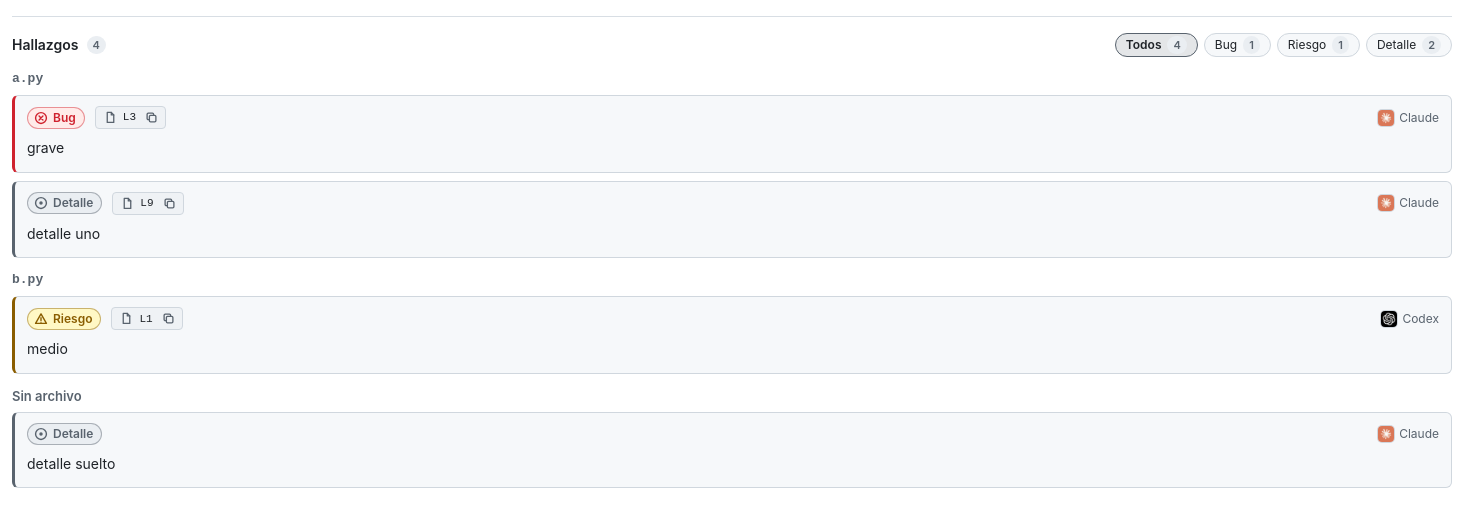
Test: FindingsPanel › filters by a severity and marks its button as pressed
The image size is (1464, 505).
Step 1. Click the button "Detalle 2" → (1409, 45), box x1=1366 y1=33 x2=1452 y2=57
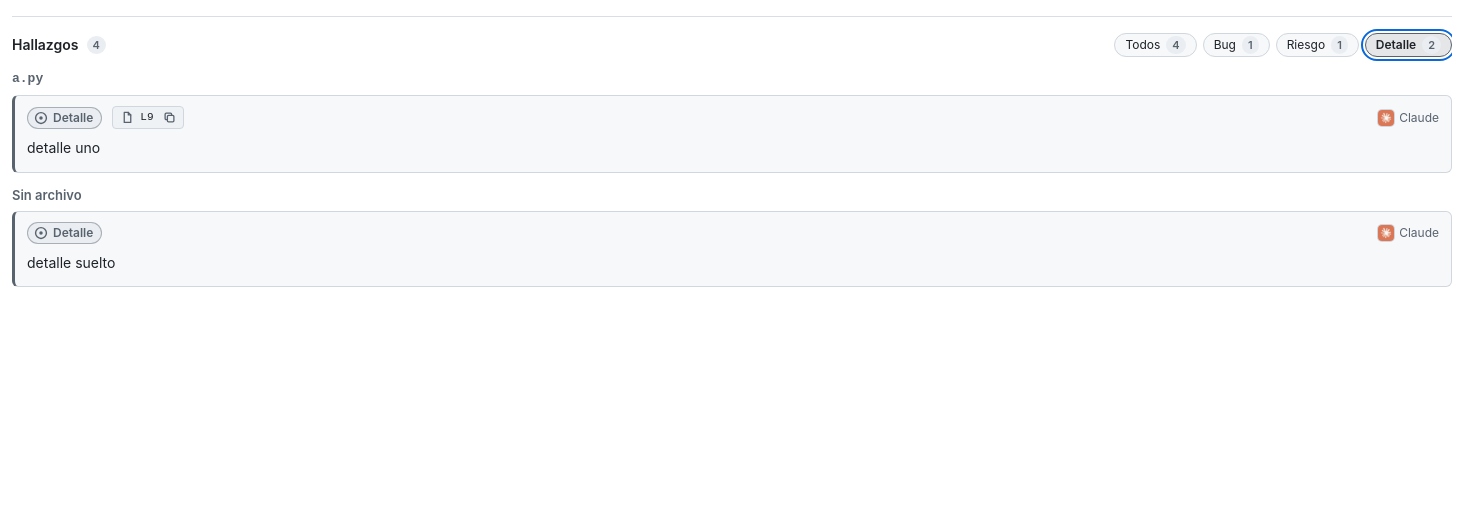
Expected: the text "detalle uno" is shown, x1=27 y1=139 x2=100 y2=156
Now the text "grave" is gone
Now the text "medio" is gone
